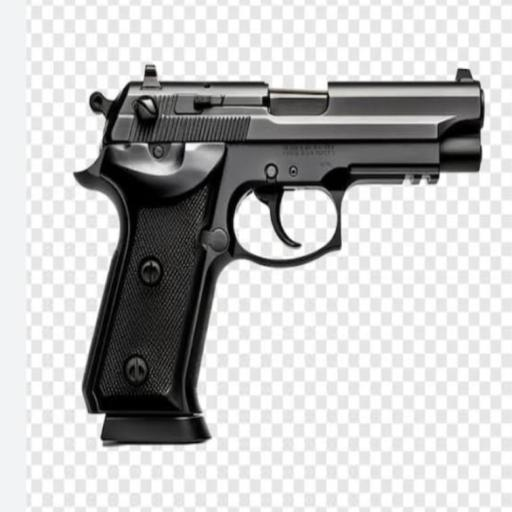Gun: (76, 66, 484, 442)
